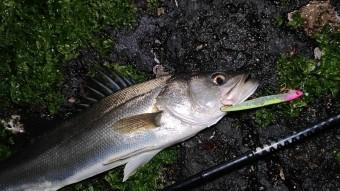fish: (0, 69, 258, 190)
